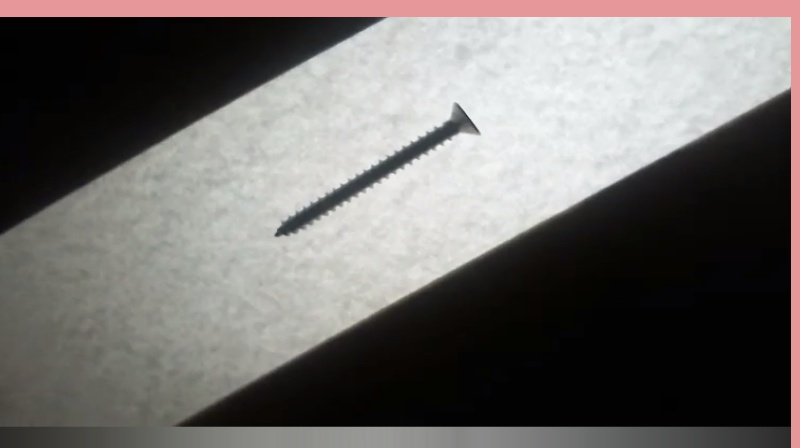S002: (270, 98, 484, 237)
